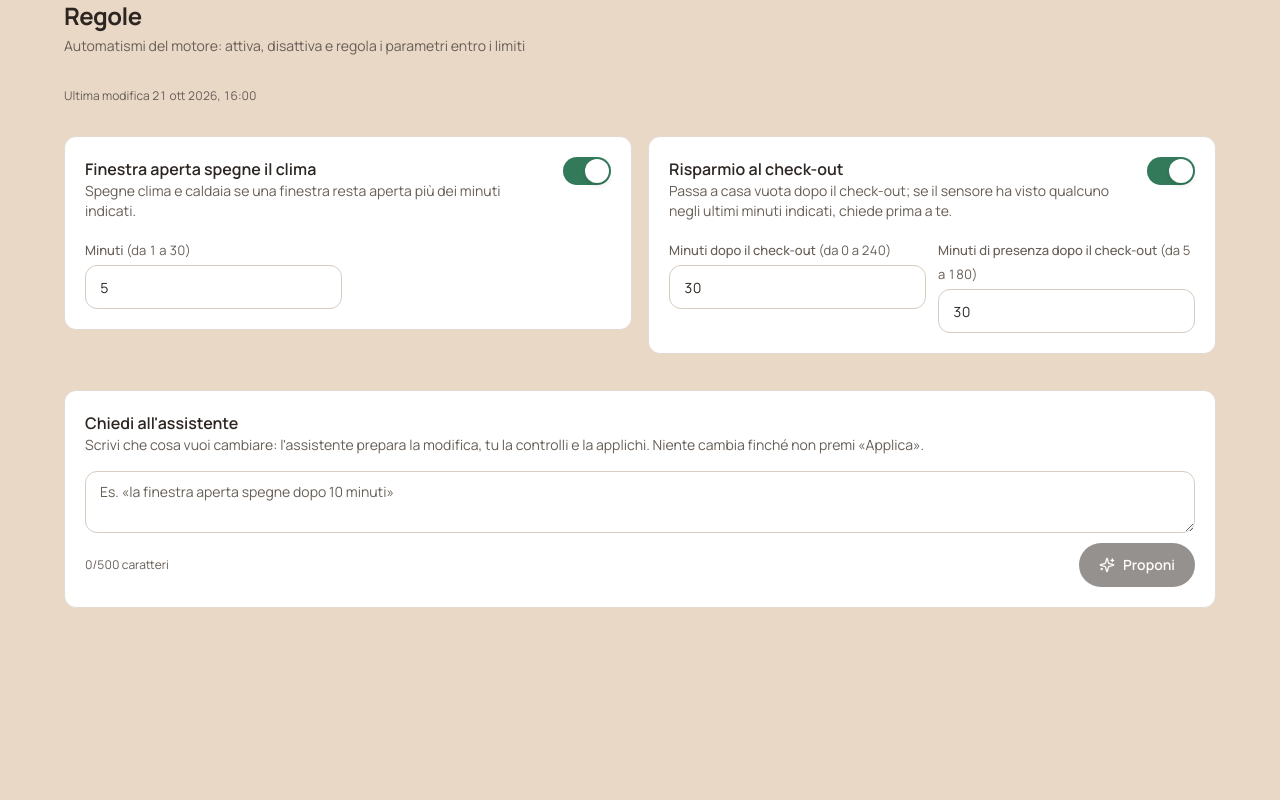
Test: Regole: «Chiedi all'assistente» (D-151) › modifiche fatte a mano non salvate: «Applica» aspetta, con la spiegazione
expect the element with test id "rule-card-window_open_off" is shown: met, box x1=64 y1=136 x2=632 y2=330
Replace the text in the number field with test id "rule-param-window_open_off-minutes" with "7" at (214, 287), box x1=85 y1=265 x2=342 y2=309
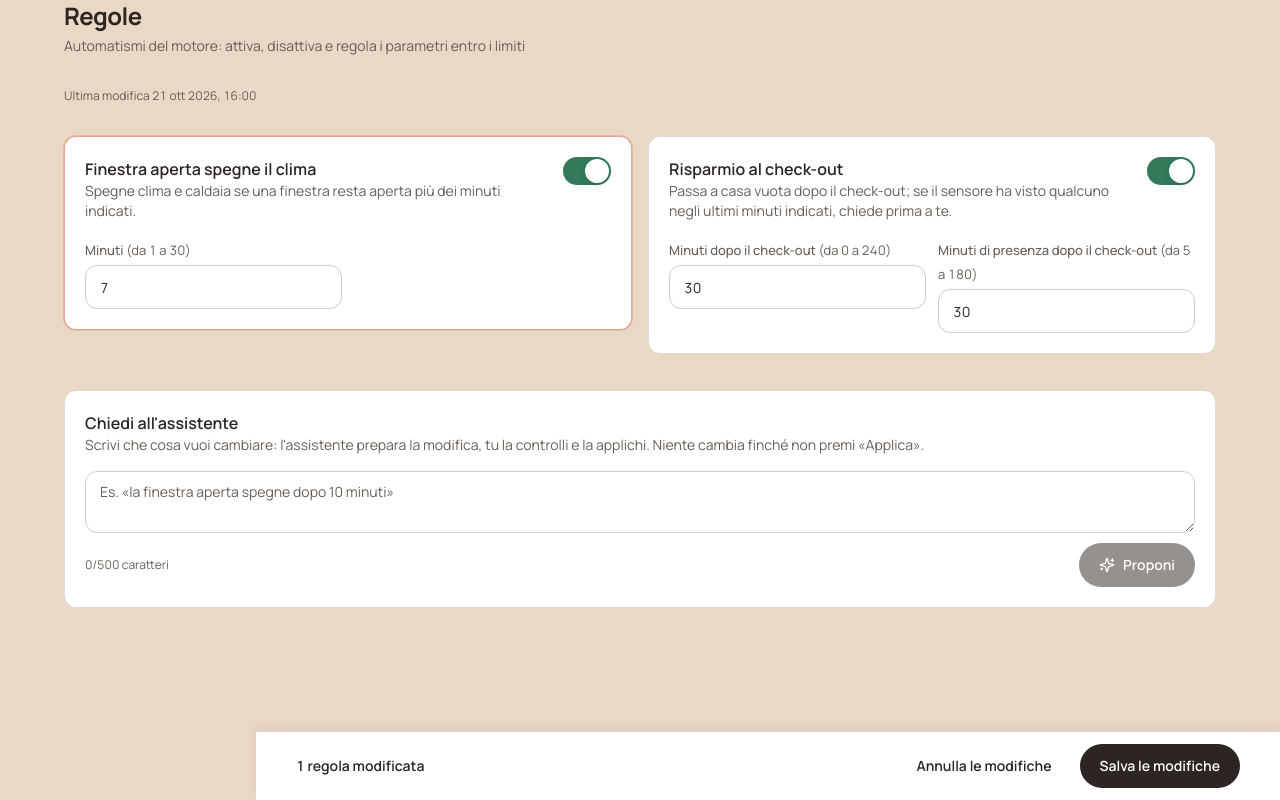
Type "la finestra aperta spegne dopo 10 minuti" into the text box with test id "rule-proposal-text" at (640, 502), box x1=85 y1=471 x2=1195 y2=533
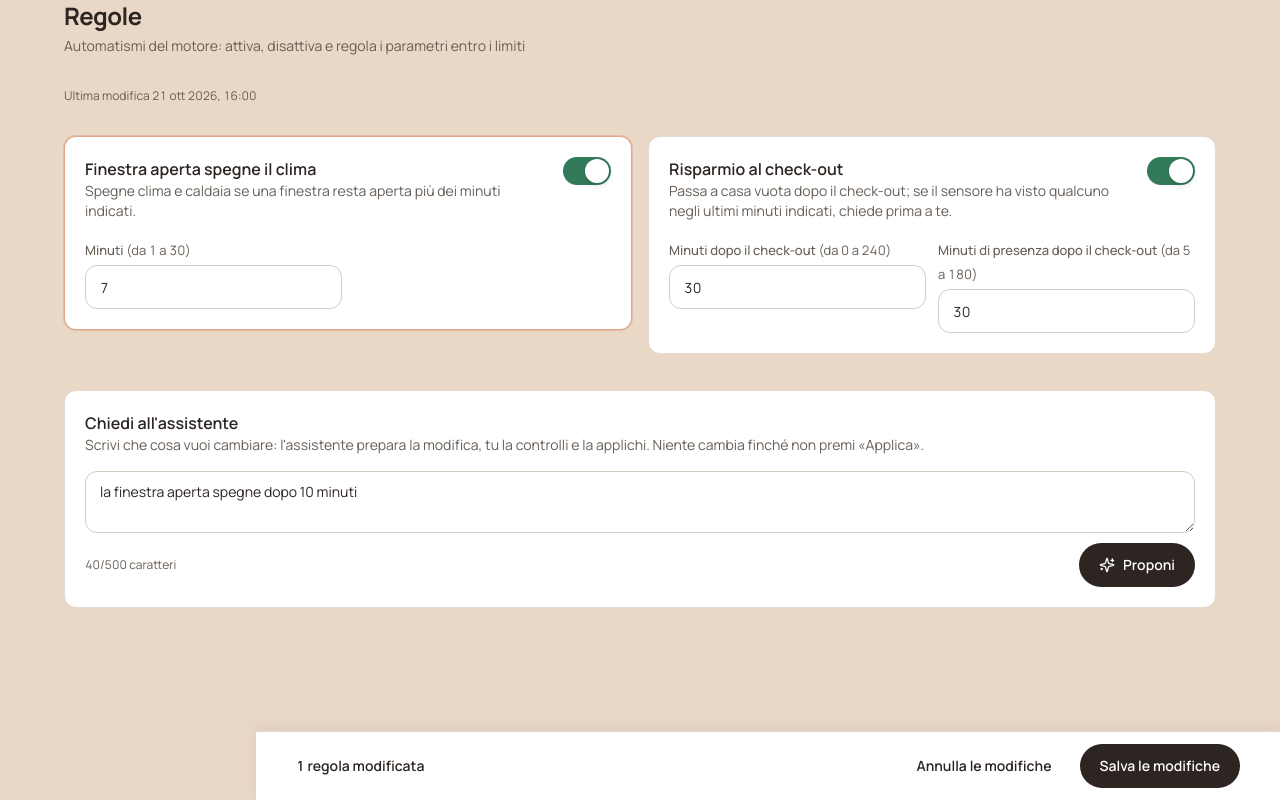
Click the button with test id "rule-proposal-ask" at (1137, 565), box x1=1079 y1=543 x2=1195 y2=587
(page scrolled)
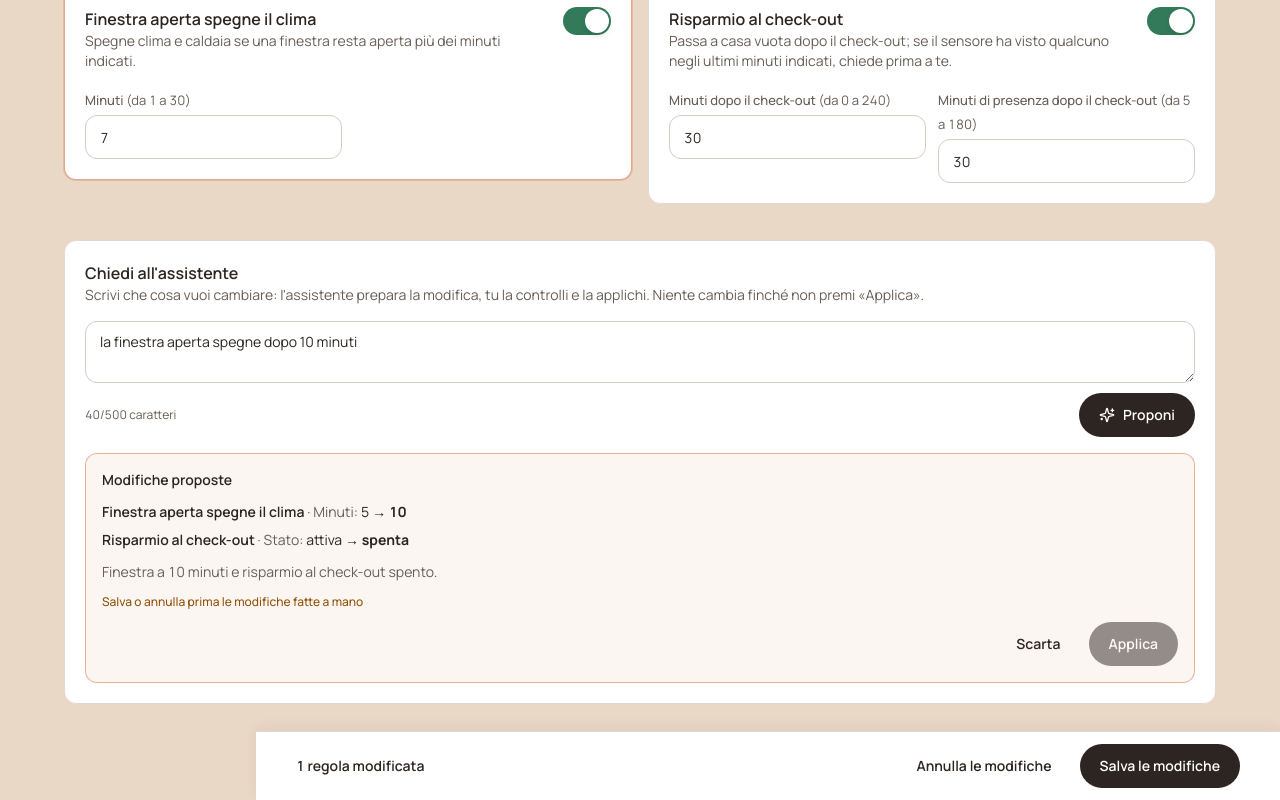
expect the text with test id "rule-proposal-unsaved" reads "Salva o annulla prima le modifiche fatte a mano": met, box x1=102 y1=593 x2=363 y2=610
expect the button with test id "rule-proposal-apply" is disabled: met, box x1=1088 y1=622 x2=1178 y2=666
